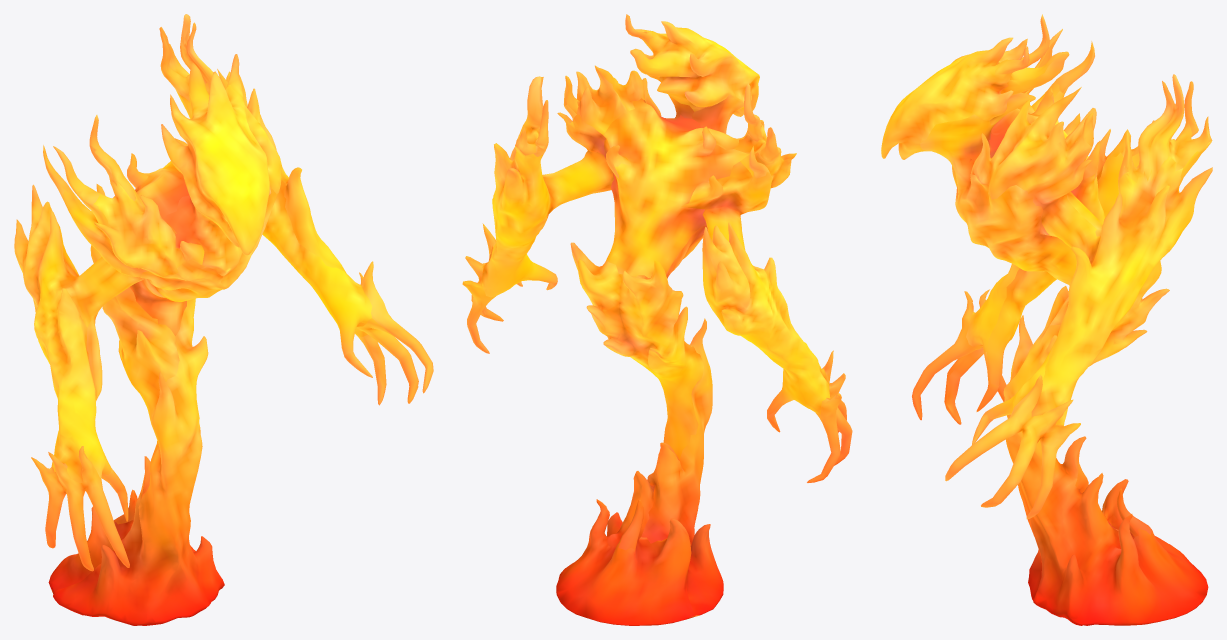
The model's file is MZ4250 - Animated Breath_Fire.glb.
The picture shows the model from 3 angles, left to right: view 1: azimuth 30°, elevation 25°; view 2: azimuth 150°, elevation 25°; view 3: azimuth 270°, elevation 25°; orthographic projection. The views are drawn at different scales.
Parts seen in each view (by area): view 1: ORGANIC BASE SPHERE.001; view 2: ORGANIC BASE SPHERE.001; view 3: ORGANIC BASE SPHERE.001.
Part boxes in pixels (x1,y1,x2,y2): ORGANIC BASE SPHERE.001: (14, 14, 433, 625); ORGANIC BASE SPHERE.001: (462, 14, 852, 625); ORGANIC BASE SPHERE.001: (881, 14, 1212, 625).
Size of the model in its own units: 119 by 167 by 87.03.
1 material, 1 textured.
